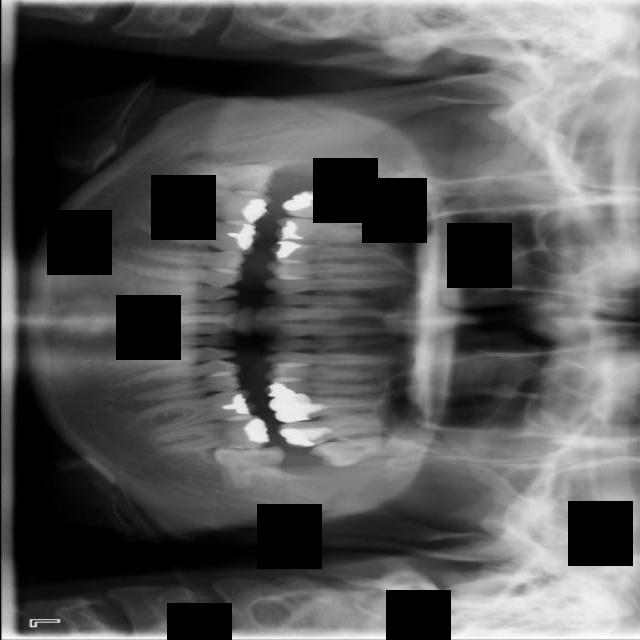3M ESPE Implant: (309, 164, 422, 218)
52: (215, 178, 276, 240), (277, 175, 333, 229), (222, 409, 271, 455), (217, 216, 262, 258), (211, 386, 259, 425), (275, 418, 321, 451), (268, 391, 310, 423), (273, 217, 307, 247), (262, 376, 301, 397), (268, 241, 302, 264)
73: (300, 393, 383, 424), (63, 570, 81, 580)
BioHorizons Implant: (277, 413, 388, 449)
BioLife Implant: (308, 433, 427, 469)
Biomet 3i Implant: (211, 446, 284, 491)
Blue Sky Bio Implant: (153, 412, 270, 457)
Caries: (276, 186, 405, 232)
Implant: (155, 179, 274, 230)
Keystone Dental Implant: (186, 161, 277, 195)
